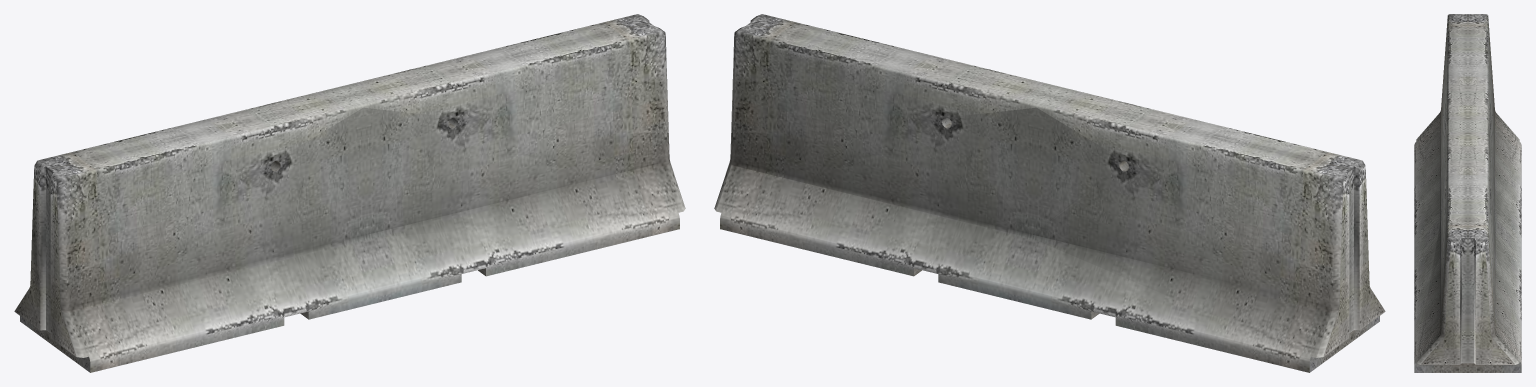
The model's file is gazebo_jersey_barrier.glb.
3 views of the same model, side by side, from view 1: azimuth 30°, elevation 25°; view 2: azimuth 150°, elevation 25°; view 3: azimuth 270°, elevation 25° (orthographic). The views are drawn at different scales.
Visible parts, largest first — view 1: geom-Jersey_Barrier; view 2: geom-Jersey_Barrier; view 3: geom-Jersey_Barrier.
Part boxes in pixels (bbox=[...]): geom-Jersey_Barrier: bbox=[14, 14, 685, 372]; geom-Jersey_Barrier: bbox=[714, 14, 1385, 372]; geom-Jersey_Barrier: bbox=[1414, 14, 1521, 372].
Bounding box in the file's own units: 4.07 × 1.14 × 0.8128.
1 material, 1 textured.
